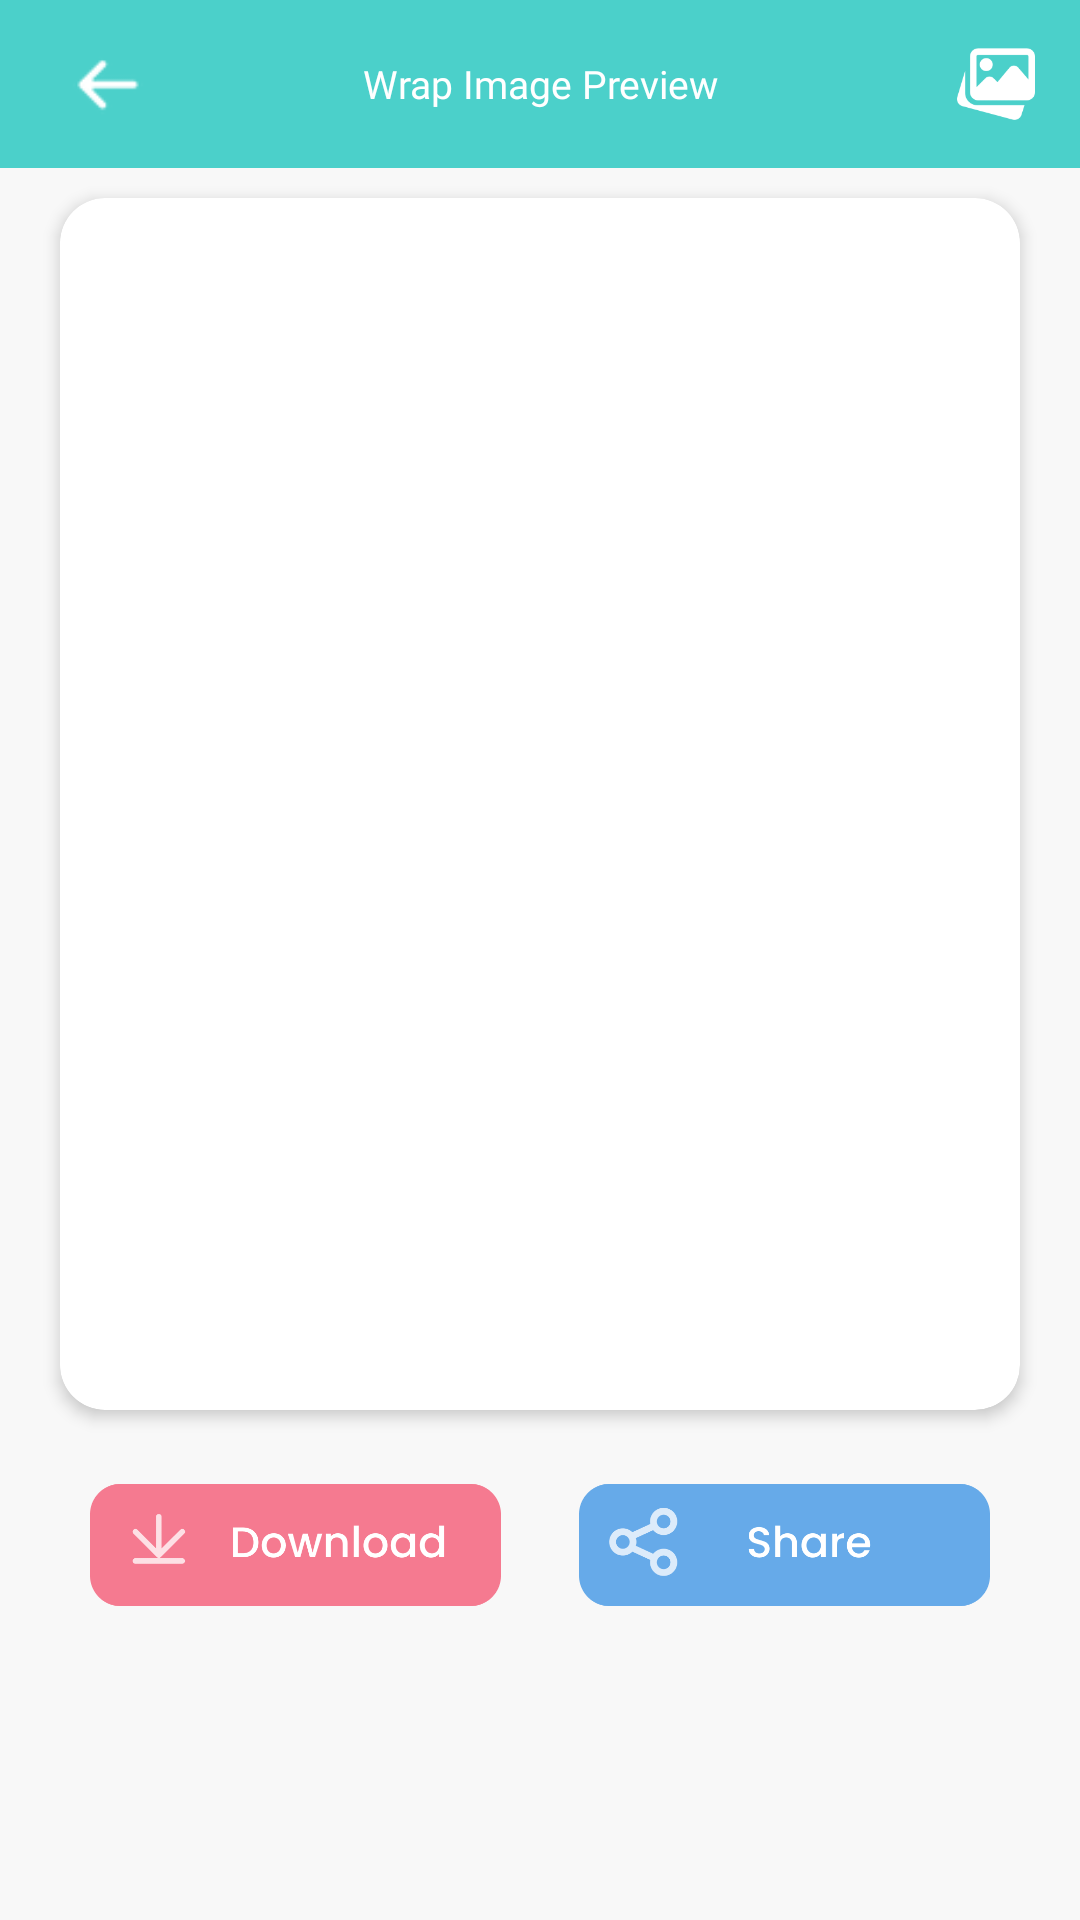

Point at icon controls on the screen. Image size 1080 × 1920, points as (x=x, y=y).
back: (x=108, y=85)
